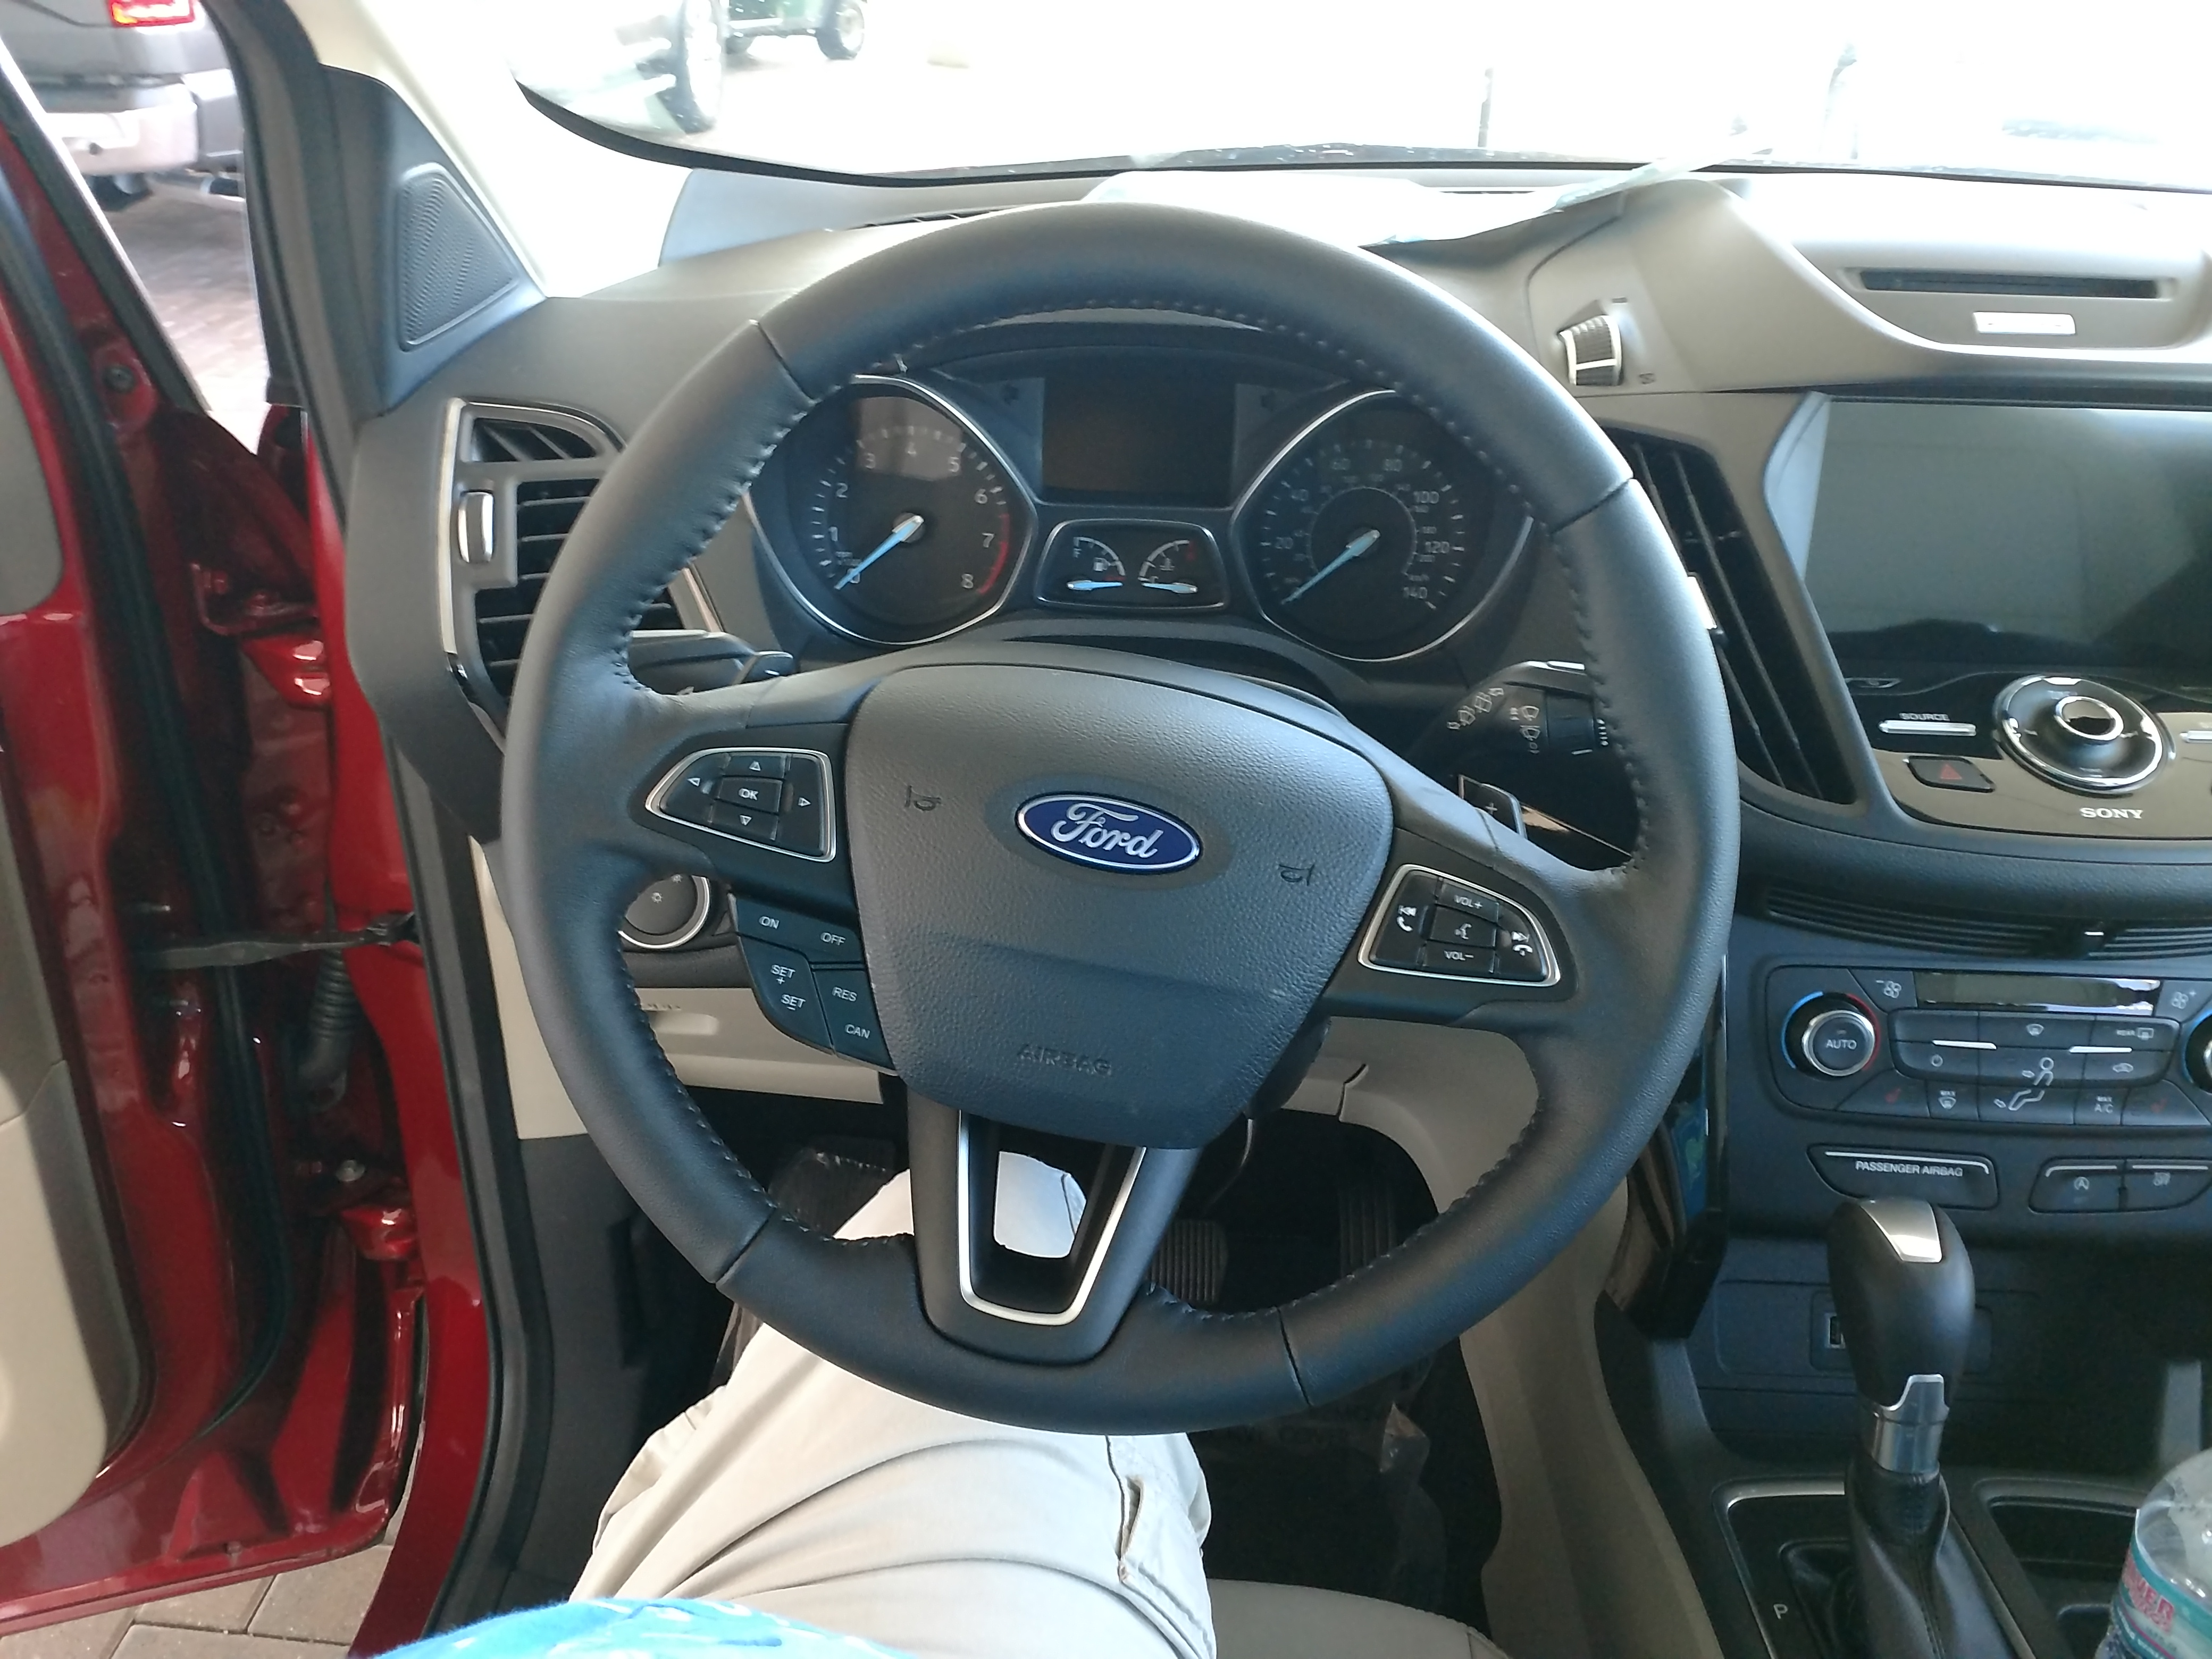Ford: (1017, 774, 1219, 894)
